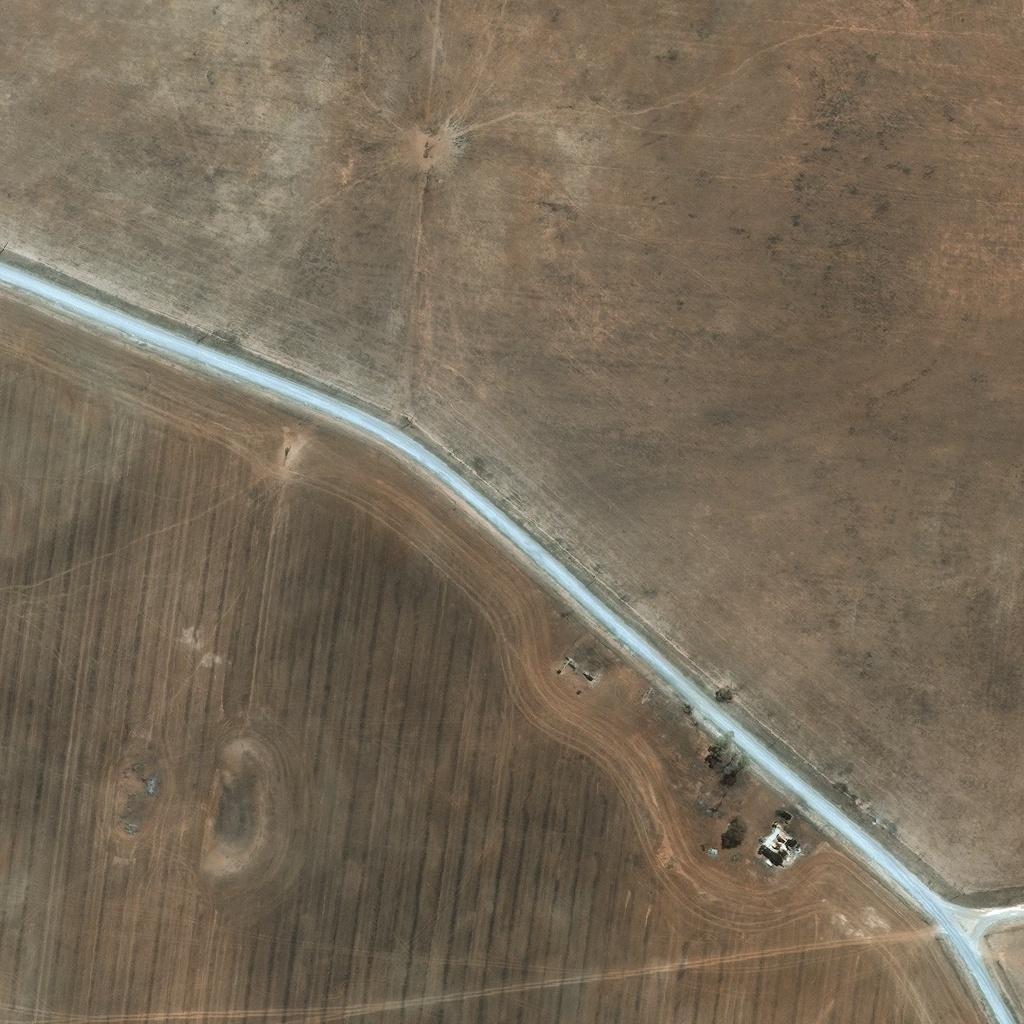2 major-damage: (761, 827, 798, 862)
